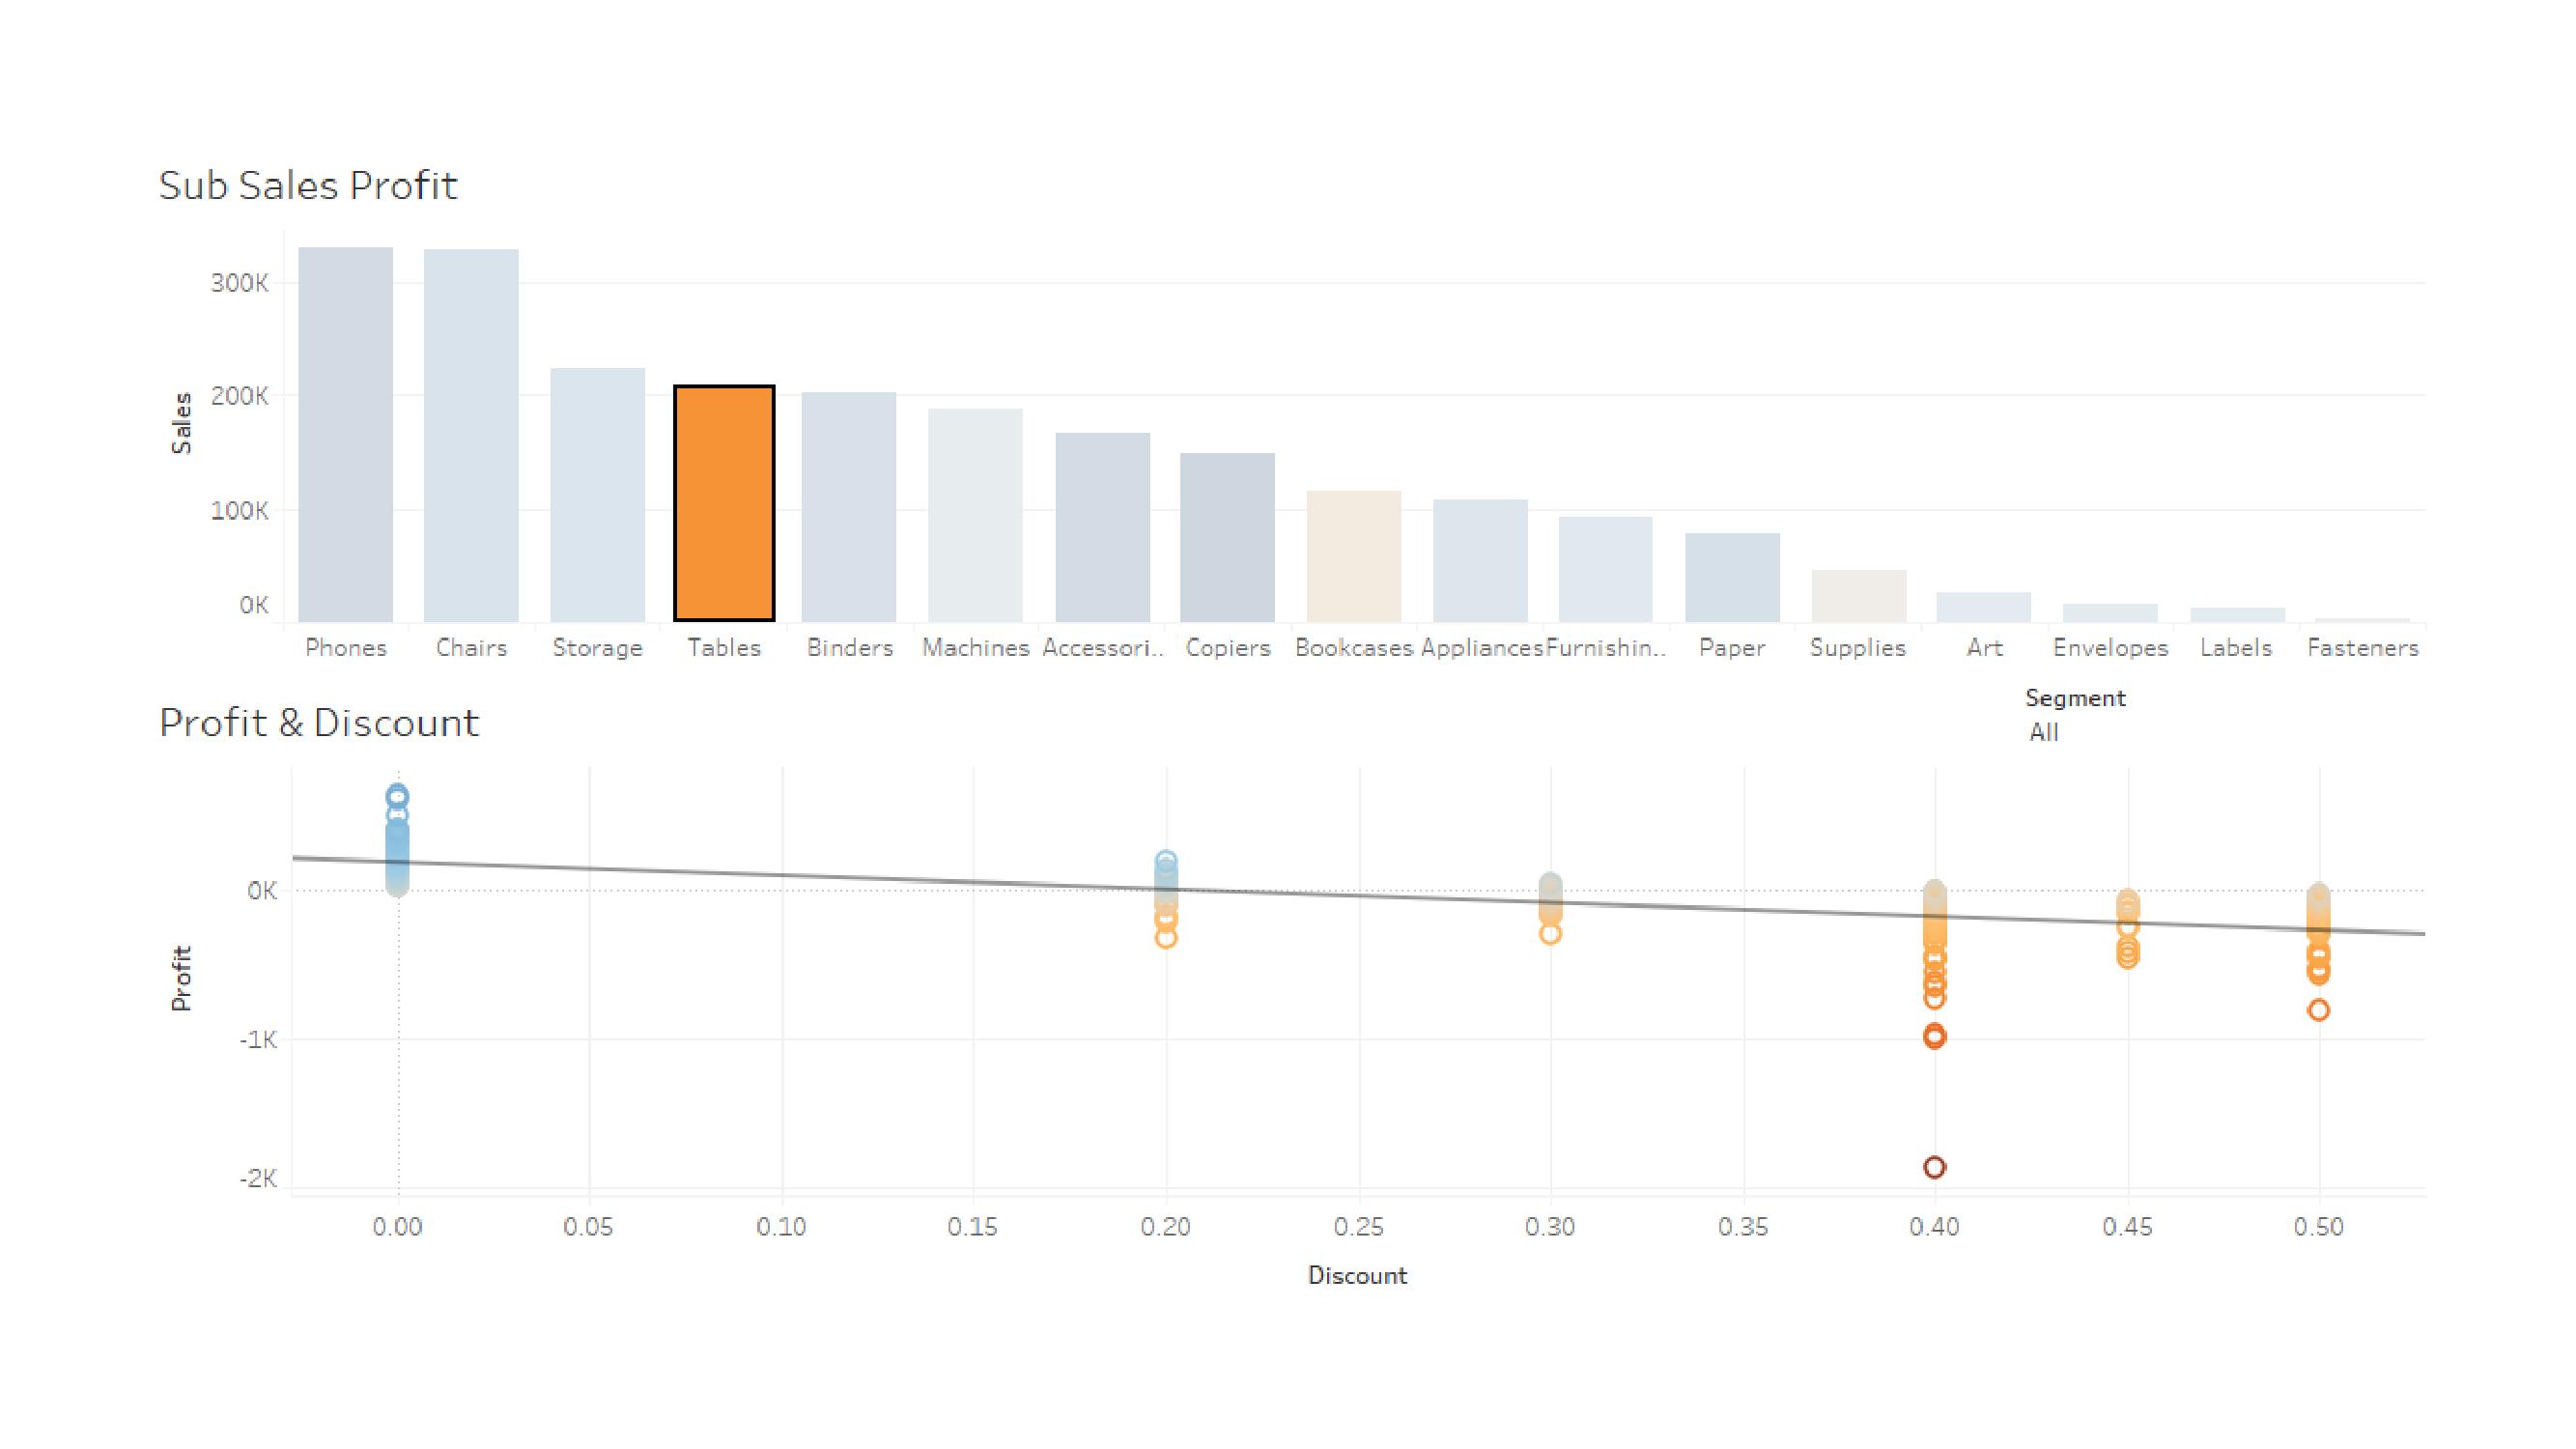

Layout of this report page (visuals, bound fields, positions):
{"tool":"tableau","page":{"name":"Dash Profit","canvas":[1000,1000],"units":"permille","ordinal":0},"visuals":[{"type":"worksheet","title":"Sub Sales Profit","mark":"Automatic","rows":["Sales"],"cols":["Sub-Category"],"box":[6.9,13.3,986.1,443.5]},{"type":"worksheet","title":"Profit & Discount","mark":"Automatic","rows":["Profit"],"cols":["Discount"],"box":[6.9,456.8,986.1,529.9]},{"type":"filter","title":"Profit & Discount","param":"[federated.1tfnya512v4sic154r6q116n23ai].[none:Segment:nk]","box":[817.3,461.8,168,136.2]}]}

Visuals, with their boxes on the dashboard's canvas, which has no fixed pixel size, in thousandths of its width and height (x1, y1, x2, y2). These are canvas units, not pixel positions in the 2576x1449 screenshot, which may show the page scaled, cropped or inside an application window:
"Sub Sales Profit" worksheet: <region>7, 13, 993, 457</region>
"Profit & Discount" worksheet: <region>7, 457, 993, 987</region>
"Profit & Discount" filter: <region>817, 462, 985, 598</region>
